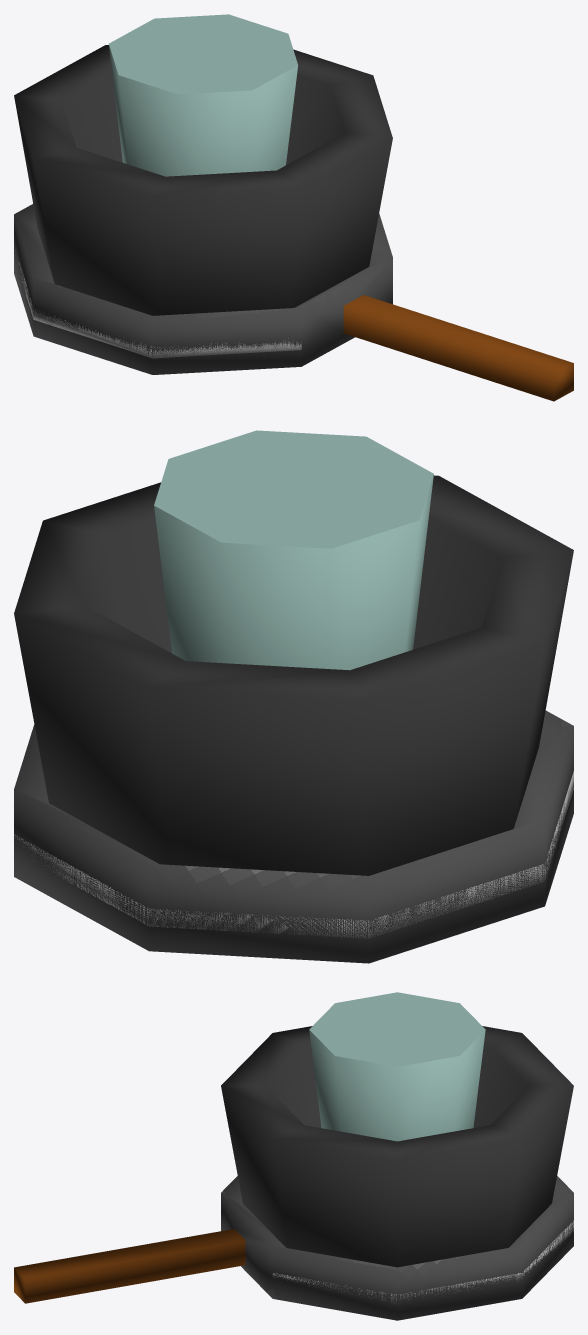
File: Props.fbx
3 renders of one model, top to bottom at view 1: azimuth 30°, elevation 25°; view 2: azimuth 150°, elevation 25°; view 3: azimuth 270°, elevation 25°, orthographic. The views are drawn at different scales.
Visible parts, largest first — view 1: Pot, Pan, Cup, Plate; view 2: Pot, Cup, Pan, Plate; view 3: Pot, Pan, Cup, Plate.
Boxes of the visible parts, left/top/right/bottom form: Pot: left=14, top=45, right=392, bottom=315; Pan: left=14, top=204, right=573, bottom=401; Cup: left=109, top=14, right=298, bottom=176; Plate: left=15, top=250, right=301, bottom=358; Pot: left=14, top=475, right=573, bottom=875; Cup: left=154, top=430, right=433, bottom=670; Pan: left=14, top=710, right=573, bottom=963; Plate: left=14, top=771, right=573, bottom=938; Pot: left=221, top=1026, right=573, bottom=1267; Pan: left=14, top=1176, right=573, bottom=1320; Cup: left=309, top=992, right=485, bottom=1141; Plate: left=272, top=1220, right=573, bottom=1304.
Bounding box in the file's own units: 0.6 × 0.406 × 0.9516.
